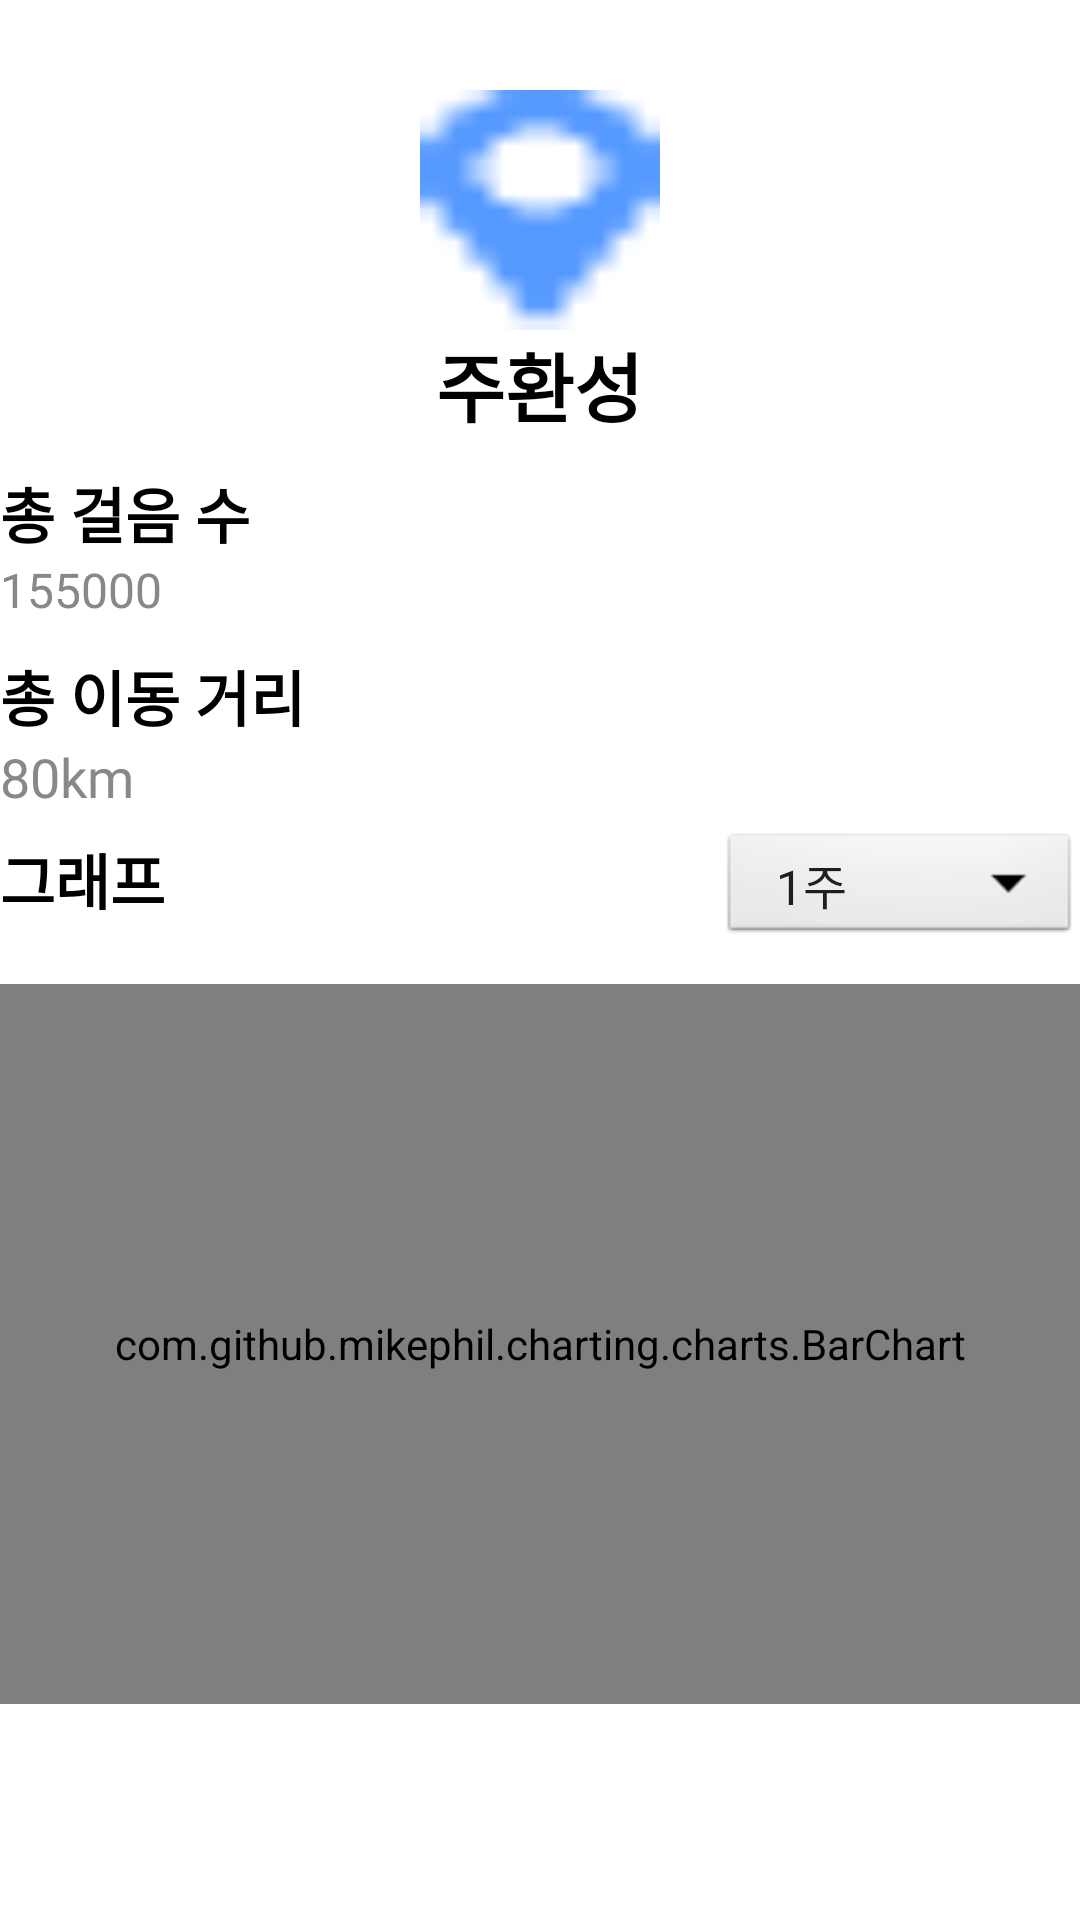

Named icons in this screenshot (1080px×1920px) and their centers, (x,y):
marker: (540,210)
